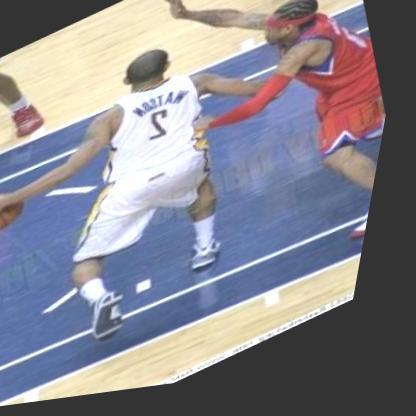basketball: (0, 176, 43, 249)
